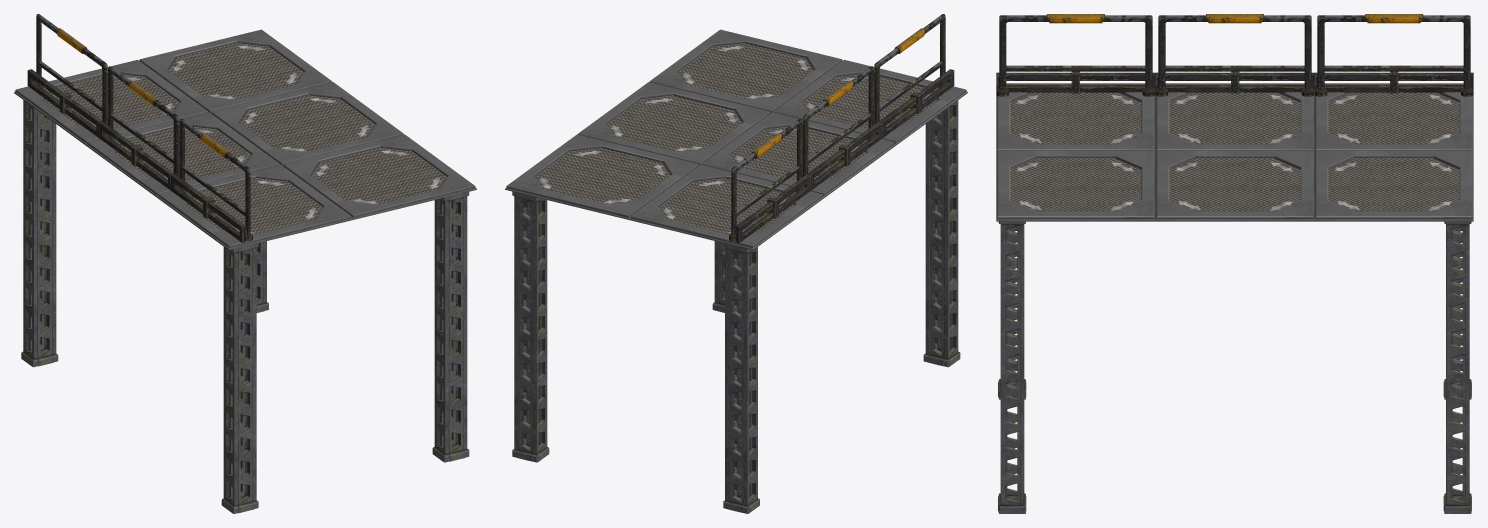
Rendered from SM_Platform.fbx.
The picture shows the model from 3 angles, left to right: view 1: azimuth 30°, elevation 25°; view 2: azimuth 150°, elevation 25°; view 3: azimuth 270°, elevation 25°; orthographic projection. The views are drawn at different scales.
Visible parts, largest first — view 1: SM_Platform_LOD0; view 2: SM_Platform_LOD0; view 3: SM_Platform_LOD0.
Boxes of the visible parts, bbox=[...] form: SM_Platform_LOD0: bbox=[14, 14, 476, 513]; SM_Platform_LOD0: bbox=[505, 14, 967, 513]; SM_Platform_LOD0: bbox=[996, 14, 1473, 513].
Size of the model in its own units: 400 by 600 by 528.
Materials: 2 (2 with a texture image).
